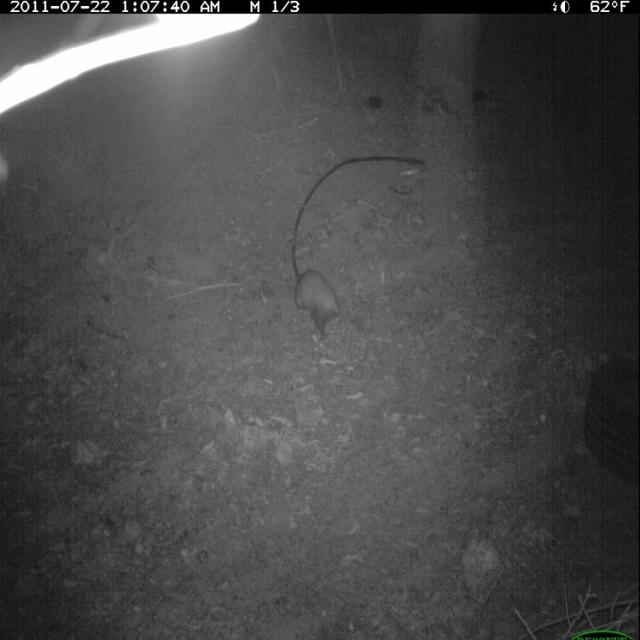opossum: (293, 265, 364, 363)
